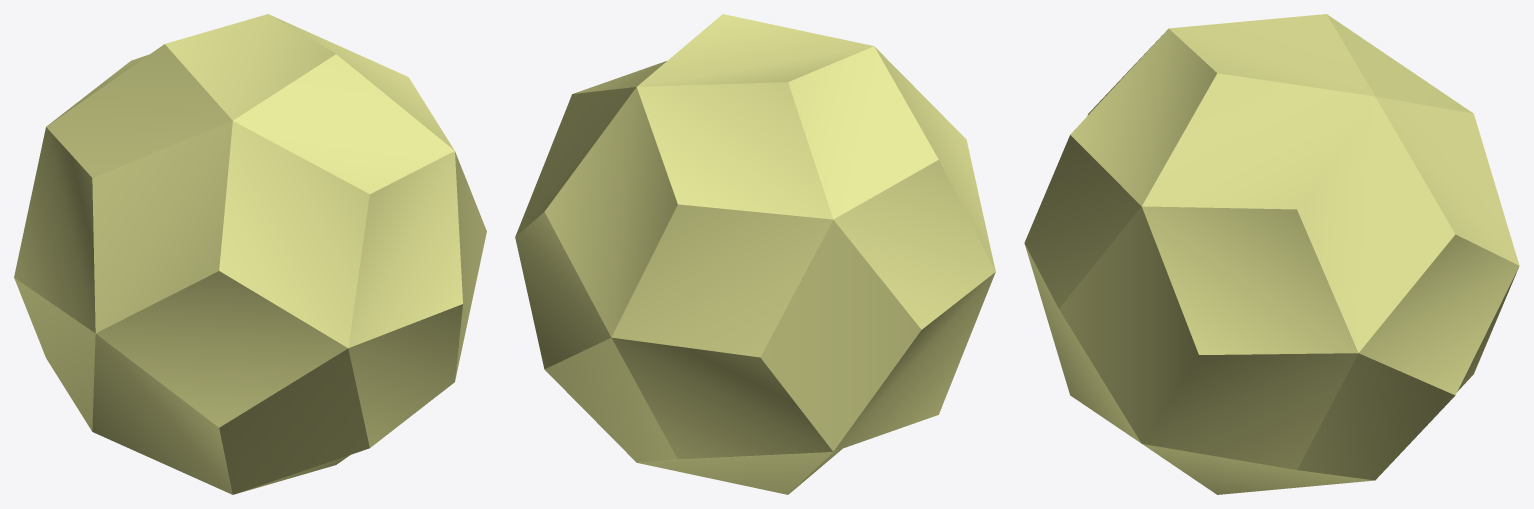
The model's file is Plaque.fbx.
3 views of the same model, side by side, from view 1: azimuth 30°, elevation 25°; view 2: azimuth 150°, elevation 25°; view 3: azimuth 270°, elevation 25° (orthographic). The views are drawn at different scales.
Parts seen in each view (by area): view 1: pPlatonic1; view 2: pPlatonic1; view 3: pPlatonic1.
Part boxes in pixels (x1,y1,x2,y2): pPlatonic1: (14, 14, 486, 494); pPlatonic1: (515, 14, 995, 494); pPlatonic1: (1024, 14, 1519, 494).
Size of the model in its own units: 5.72 by 5.59 by 5.94.
